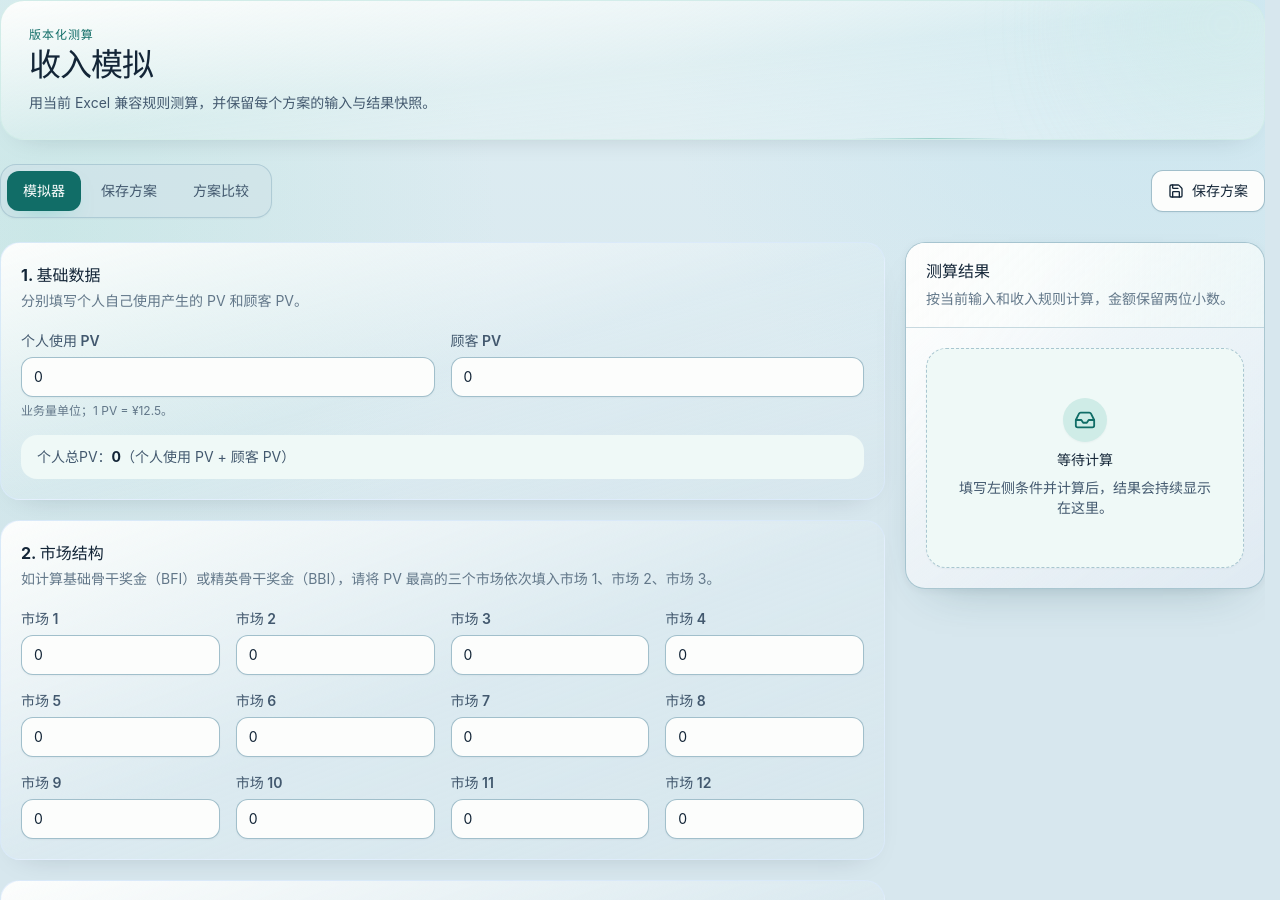
Test: IncomePage › separates simulator, saved plans, and comparison with a responsive result panel
Expected: the heading "1. 基础数据" is shown, [21,265,100,285]
Expected: the text "个人总PV：0（个人使用 PV + 顾客 PV）" is shown, [21,435,864,479]
Press the mouse on the tab "保存方案" at point(129, 191), box [85,171,173,211]
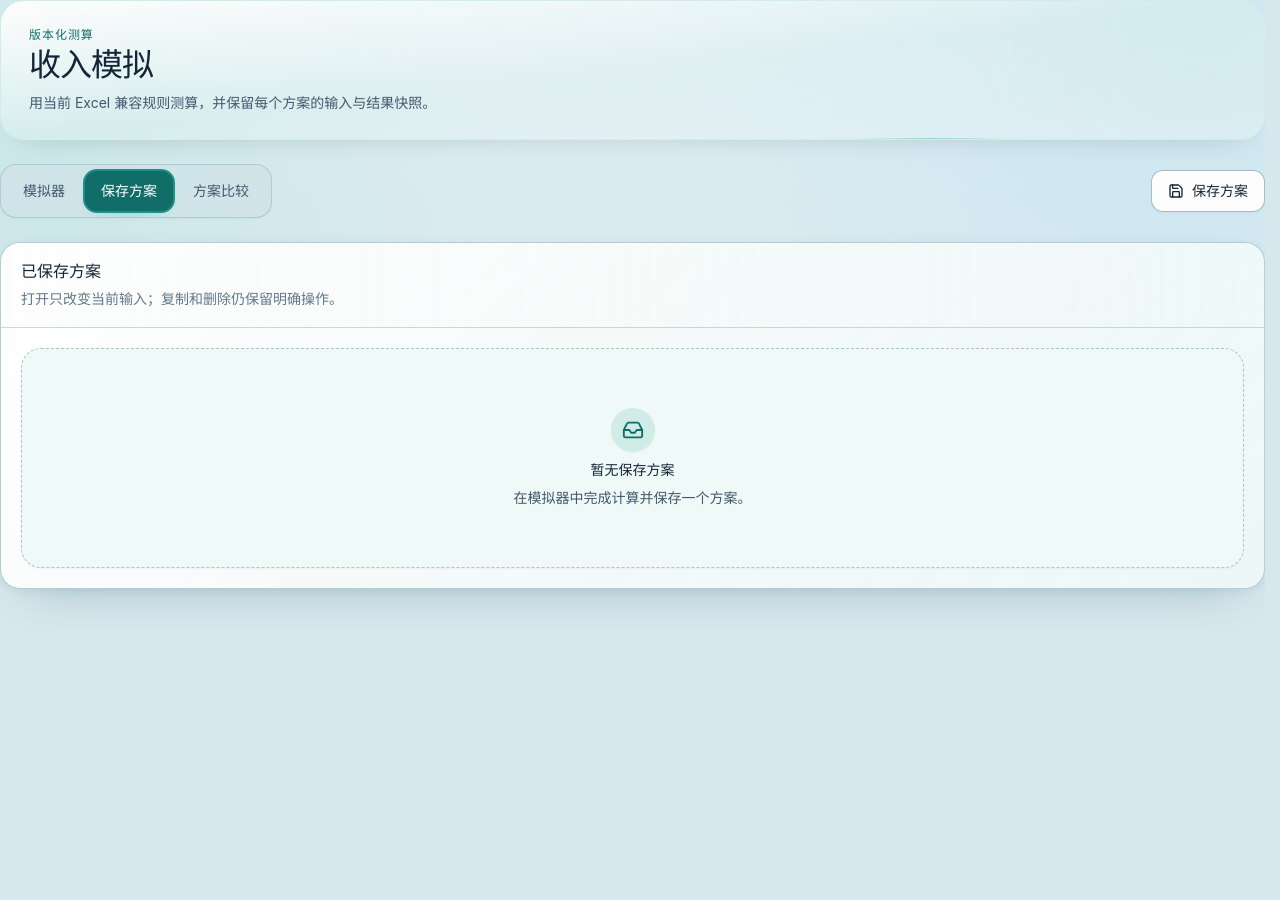
Expected: the heading "已保存方案" is shown, [21,261,101,281]
Press the mouse on the tab "方案比较" at point(221, 191), box [177,171,265,211]
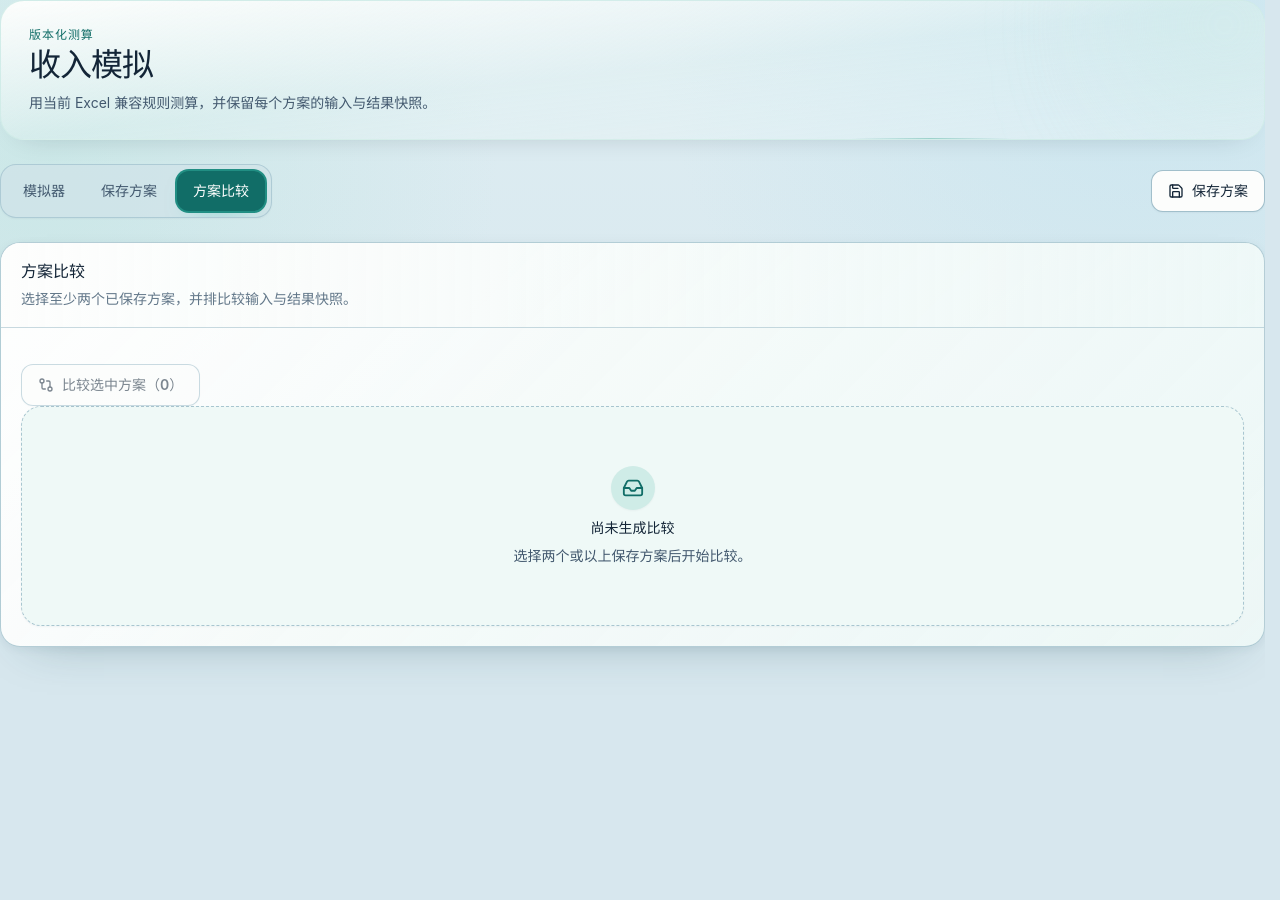
Expected: the heading "方案比较" is shown, [21,261,85,281]
